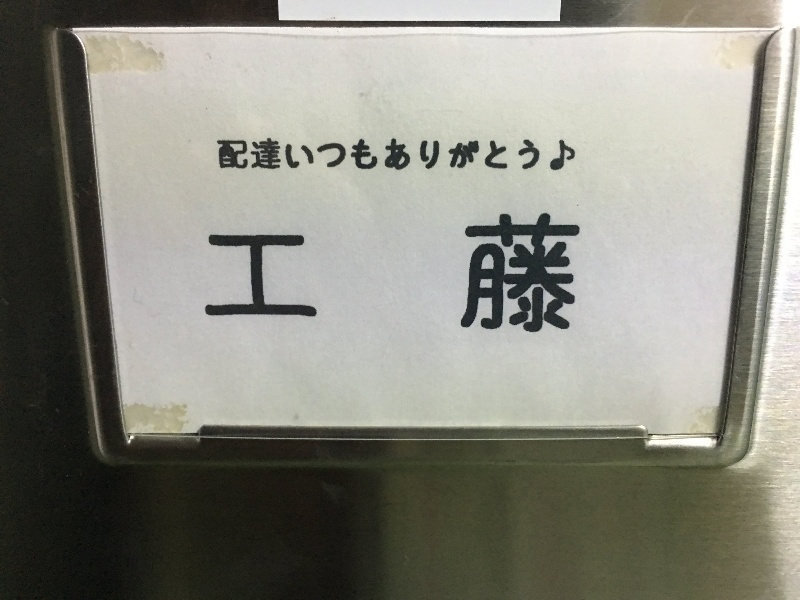text: (209, 209, 224, 342), (225, 209, 240, 342), (241, 209, 256, 342), (257, 209, 272, 342), (273, 209, 288, 342), (289, 209, 304, 342), (305, 209, 320, 342), (321, 209, 336, 342), (337, 209, 352, 342), (353, 209, 368, 342), (369, 209, 384, 342), (385, 209, 400, 342), (401, 209, 416, 342), (417, 209, 432, 342), (433, 209, 448, 342), (449, 209, 464, 342), (465, 209, 480, 342), (481, 209, 496, 342), (497, 209, 512, 342), (513, 209, 528, 342), (529, 209, 544, 342), (545, 209, 560, 342), (561, 209, 576, 342), (577, 209, 588, 342), (225, 139, 240, 171), (241, 139, 256, 171), (257, 139, 272, 171), (273, 139, 288, 171), (289, 139, 304, 171), (305, 139, 320, 171), (321, 139, 336, 171), (337, 139, 352, 171), (353, 139, 368, 171), (369, 139, 384, 171), (385, 139, 400, 171), (401, 139, 416, 171), (417, 139, 432, 171), (433, 139, 448, 171), (449, 139, 464, 171), (465, 139, 480, 171), (481, 139, 496, 171), (497, 139, 512, 171), (513, 139, 528, 171), (529, 139, 544, 171), (205, 209, 208, 342), (217, 139, 224, 171)
